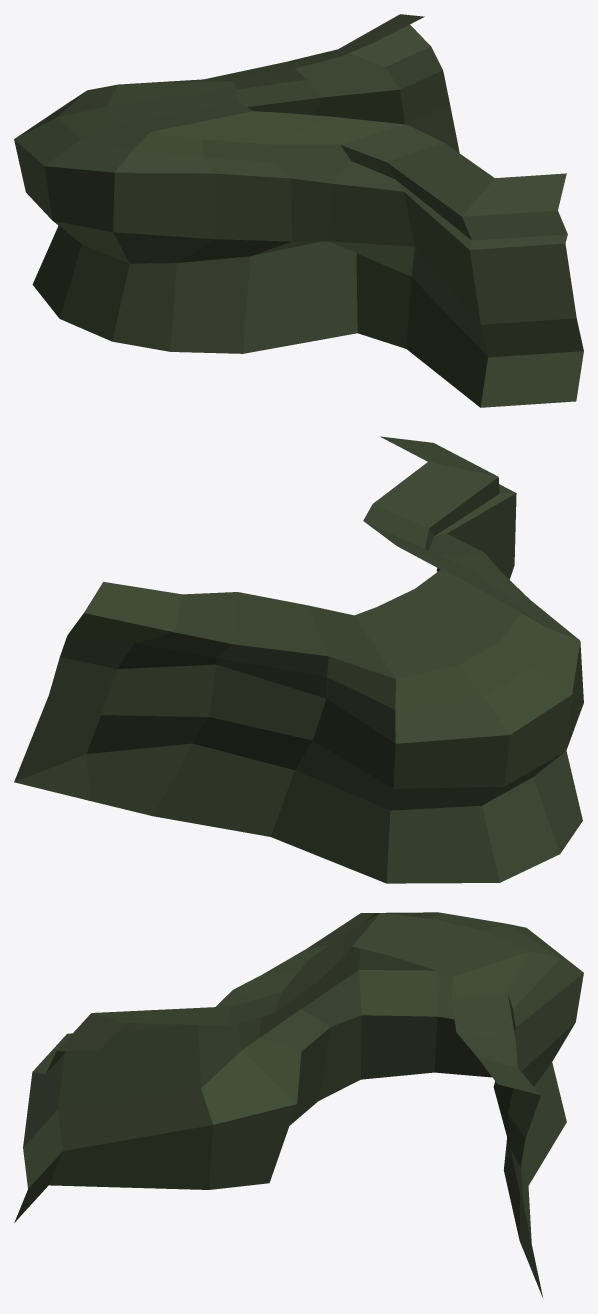
Rendered from EA_Swamp_Island_Part_02a.glb.
The picture shows the model from 3 angles, top to bottom: view 1: azimuth 30°, elevation 25°; view 2: azimuth 150°, elevation 25°; view 3: azimuth 270°, elevation 25°; orthographic projection. The views are drawn at different scales.
Parts seen in each view (by area): view 1: EA_Swamp_Island_Part_02a; view 2: EA_Swamp_Island_Part_02a; view 3: EA_Swamp_Island_Part_02a.
Boxes of the visible parts, <box> form: EA_Swamp_Island_Part_02a: <box>14,14,583,407</box>; EA_Swamp_Island_Part_02a: <box>14,436,583,883</box>; EA_Swamp_Island_Part_02a: <box>14,912,583,1298</box>.
Size of the model in its own units: 7.93 by 3.39 by 8.34.
Materials: 1 (1 with a texture image).
